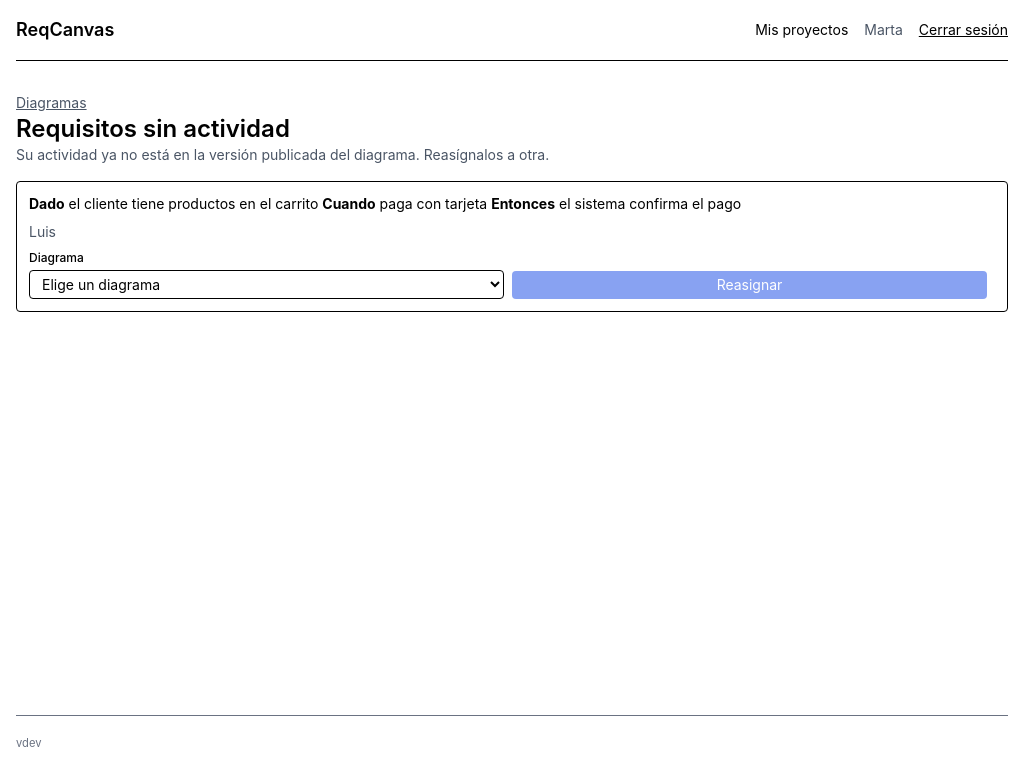
Test: requisitos huérfanos (edge case de la spec) › el Administrador los reasigna a una actividad publicada
This screenshot has width=1024, height=768.
Expected: the element that starts with "Dado" shows "el sistema confirma el pago", [559,195,741,212]
Select "Proceso de compra" in the dropdown labelled "Diagrama": (266, 284) [29,270,504,299]
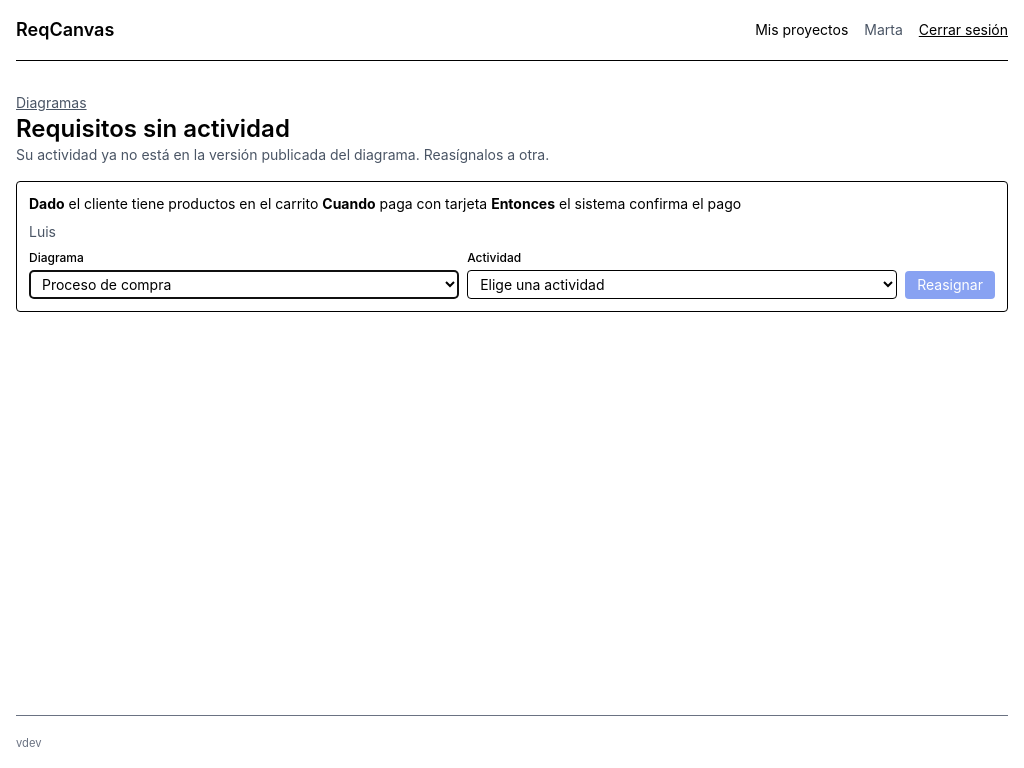
Select "Validar pago" in the dropdown labelled "Actividad": (682, 284) [467,270,897,299]
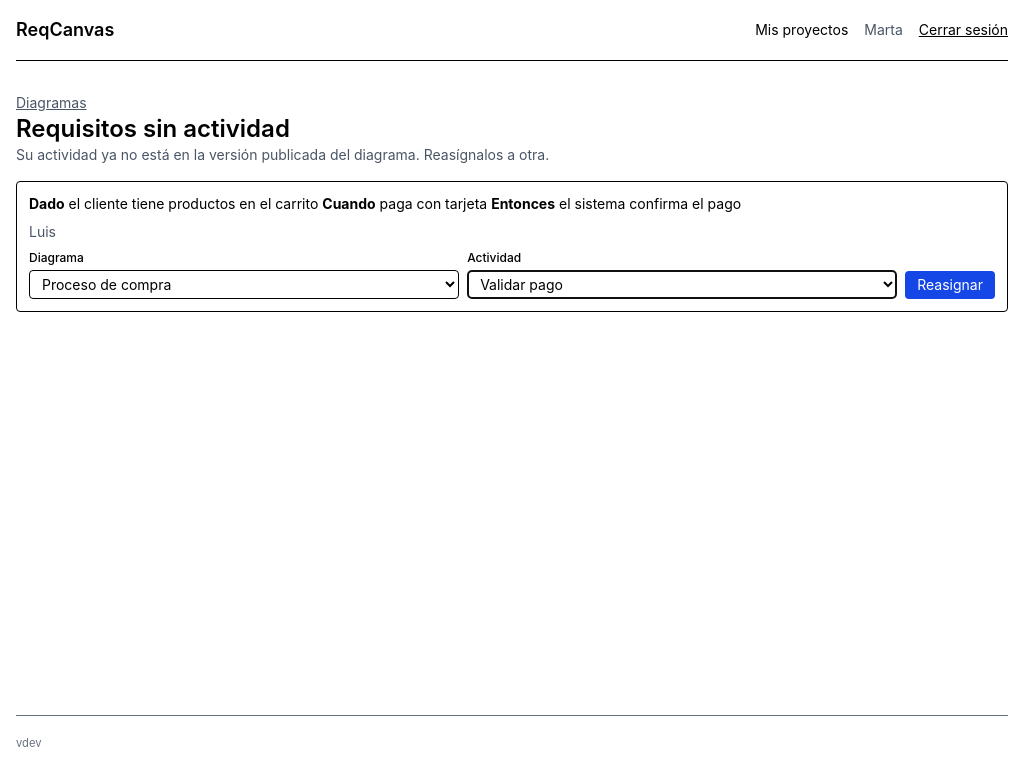
Click the button "Reasignar": (950, 285) [905,271,995,299]
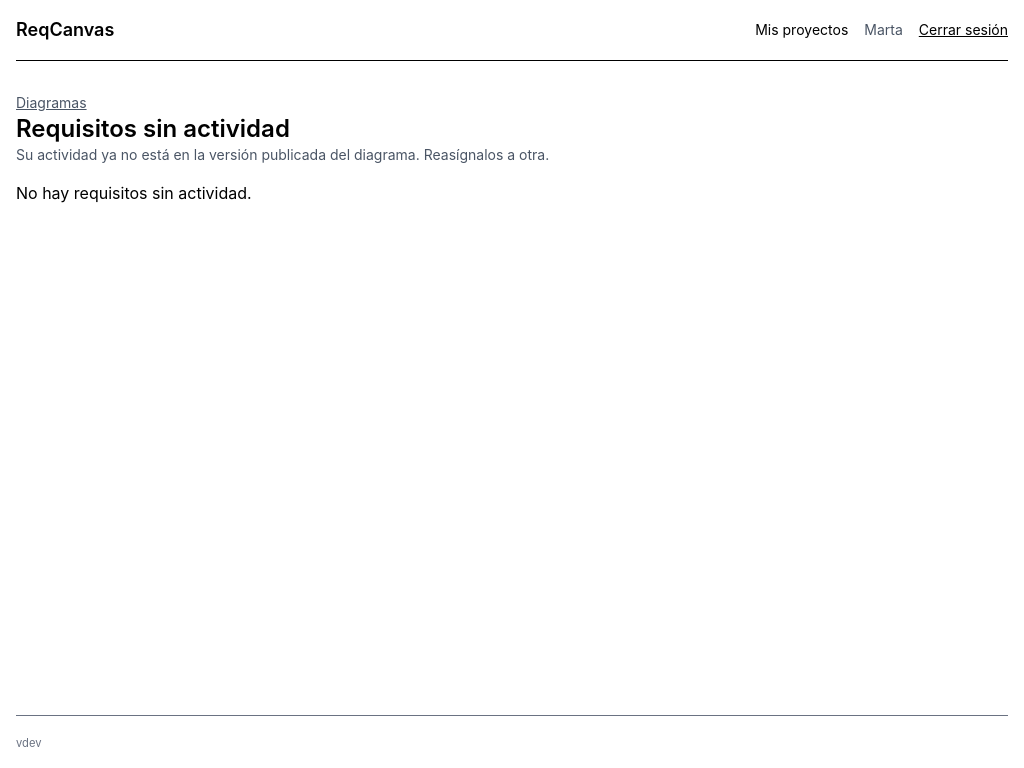
Expected: the text "No hay requisitos sin actividad." is shown, [16,183,252,203]
